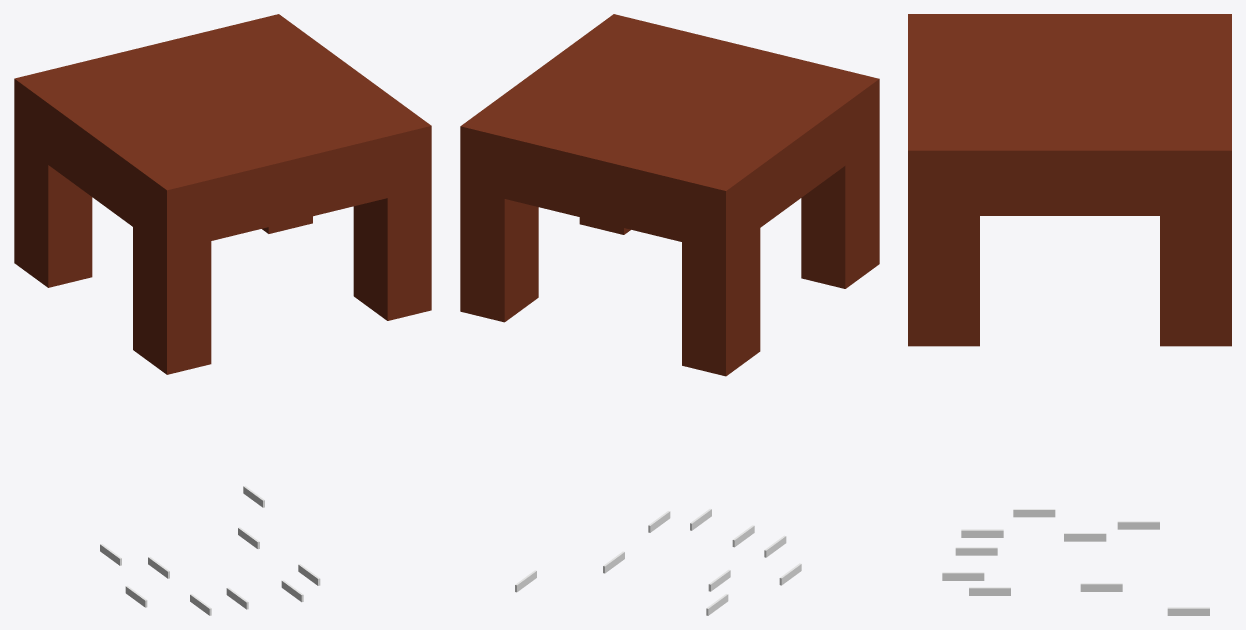
File: problem_3.dae
3 views of the same model, side by side, from view 1: azimuth 30°, elevation 25°; view 2: azimuth 150°, elevation 25°; view 3: azimuth 270°, elevation 25° (orthographic). The views are drawn at different scales.
Parts seen in each view (by area): view 1: base (×4); view 2: base (×4); view 3: base (×3).
Part boxes in pixels (box(x1,y1,x2,y2)): base (×4): box(14, 14, 431, 374); base (×4): box(460, 14, 879, 376); base (×3): box(908, 14, 1231, 346).
Size of what is drawn, in the model's own units: 0.9 by 0.9 by 1.5.
